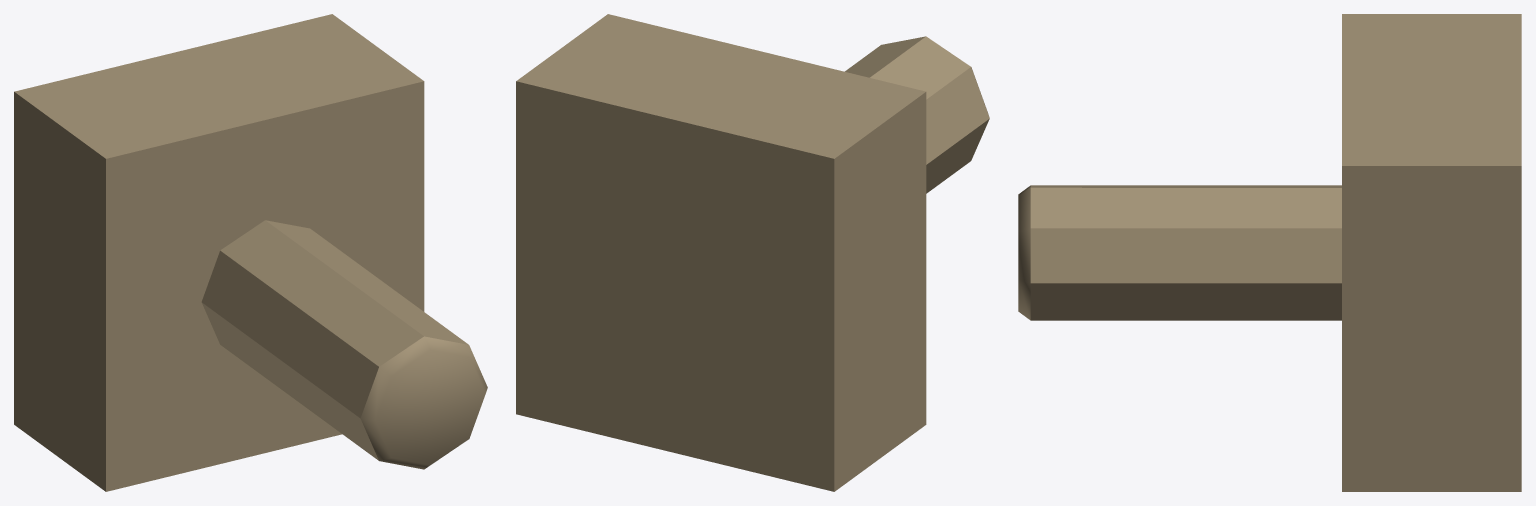
The model's file is Wall_Detail_01.fbx.
3 views of the same model, side by side, from view 1: azimuth 30°, elevation 25°; view 2: azimuth 150°, elevation 25°; view 3: azimuth 270°, elevation 25° (orthographic). The views are drawn at different scales.
Parts seen in each view (by area): view 1: Wall_Detail_01; view 2: Wall_Detail_01; view 3: Wall_Detail_01.
Boxes of the visible parts, box(x1,y1,x2,y2) form: Wall_Detail_01: box(14, 14, 487, 491); Wall_Detail_01: box(516, 14, 989, 491); Wall_Detail_01: box(1018, 14, 1521, 491).
Size of the model in its own units: 1 by 1 by 1.4.
